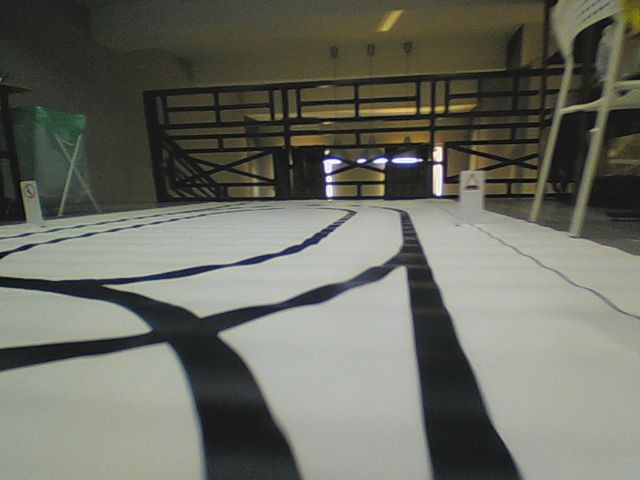Nerov: (463, 173, 480, 191)
